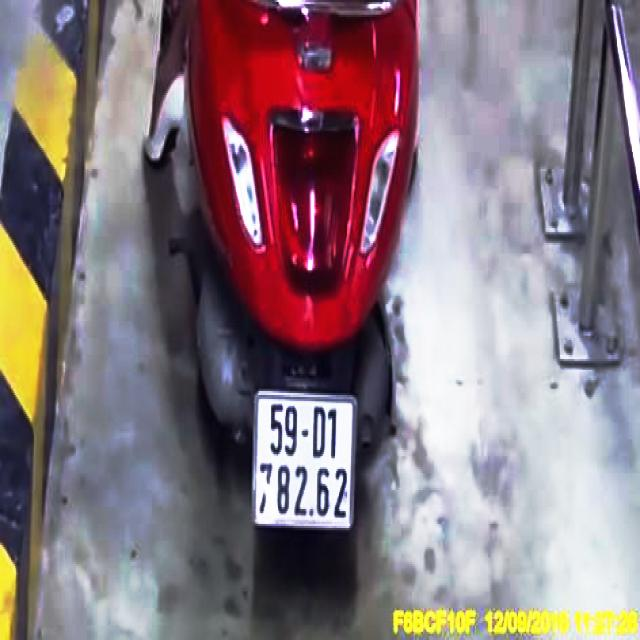license_plate: (252, 393, 357, 531)
